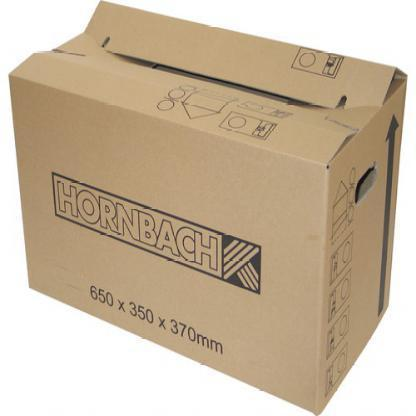box: (9, 0, 409, 416)
